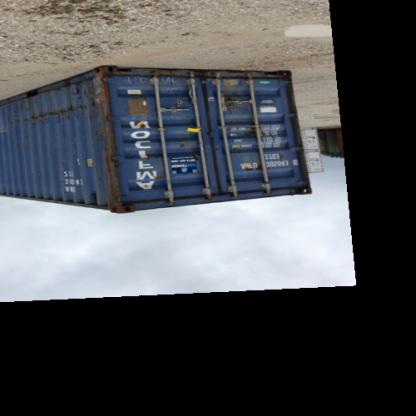Damage: (10, 103, 105, 127), (120, 74, 184, 102), (101, 150, 125, 210), (69, 76, 109, 98), (236, 122, 276, 143), (122, 116, 154, 140), (172, 138, 196, 162), (236, 162, 265, 178), (274, 149, 288, 169), (145, 174, 167, 184)
